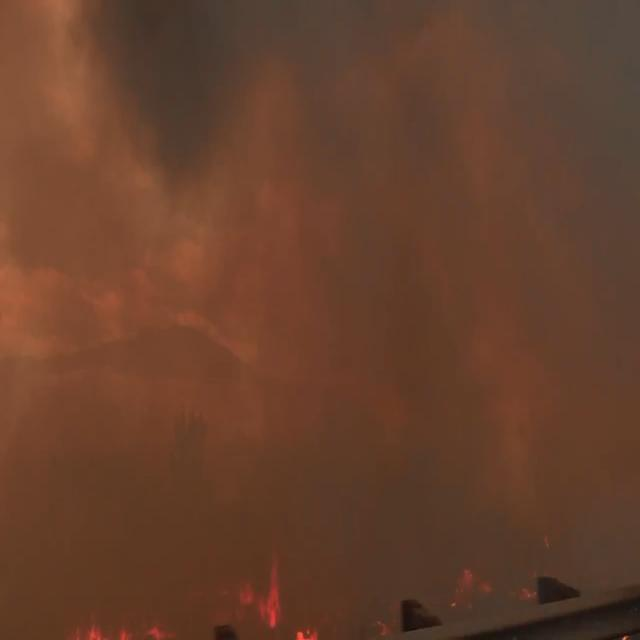Fire: (68, 565, 329, 640)
